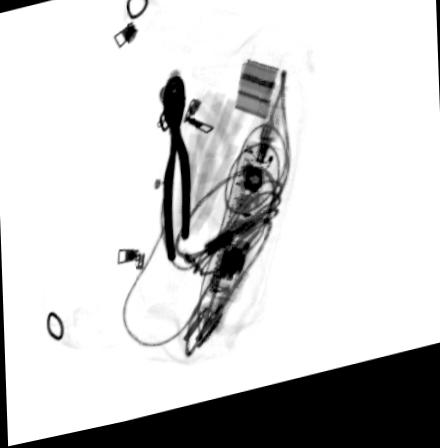Pliers: (161, 80, 190, 269)
